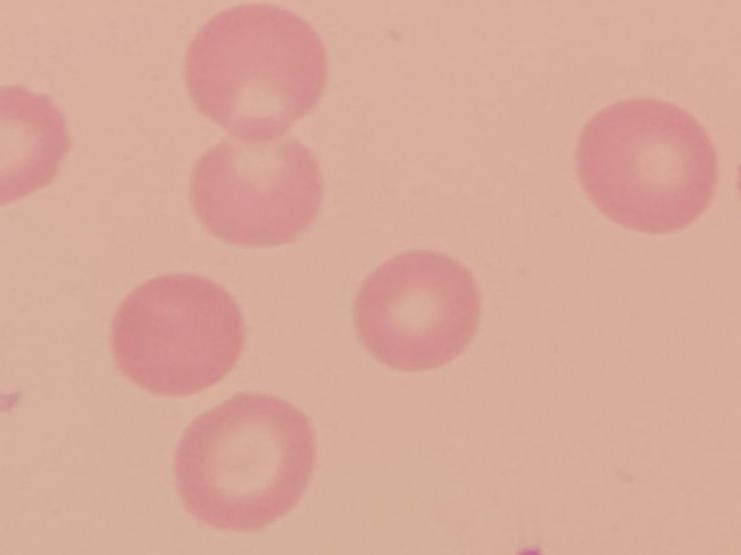Uninfected: (579, 95, 718, 239), (173, 390, 312, 532), (184, 2, 327, 140), (110, 270, 241, 399), (354, 245, 480, 376), (193, 119, 323, 245), (0, 82, 69, 214)
